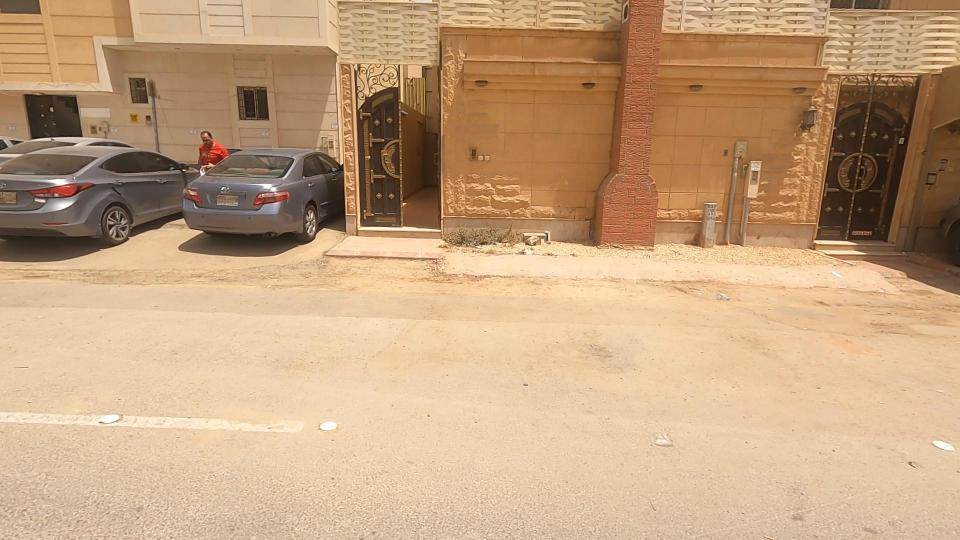GARBAGE: (465, 187, 599, 280)
